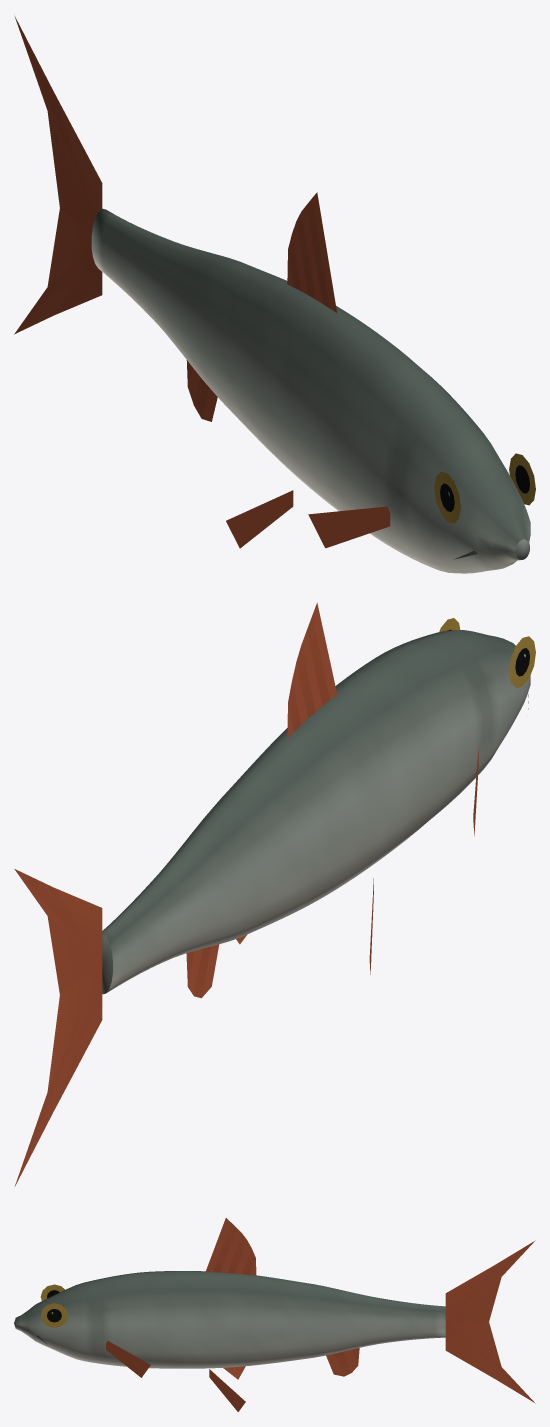
Rendered from jelawat.fbx.
3 renders of one model, top to bottom at view 1: azimuth 30°, elevation 25°; view 2: azimuth 150°, elevation 25°; view 3: azimuth 270°, elevation 25°, orthographic. The views are drawn at different scales.
Visible parts, largest first — view 1: jelawat; view 2: jelawat; view 3: jelawat.
Boxes of the visible parts, x1=… form: jelawat: x1=14, y1=16, x2=535, y2=573; jelawat: x1=14, y1=602, x2=535, y2=1186; jelawat: x1=14, y1=1218, x2=535, y2=1411.
Bounding box in the file's own units: 0.2266 × 0.4781 × 1.21.
